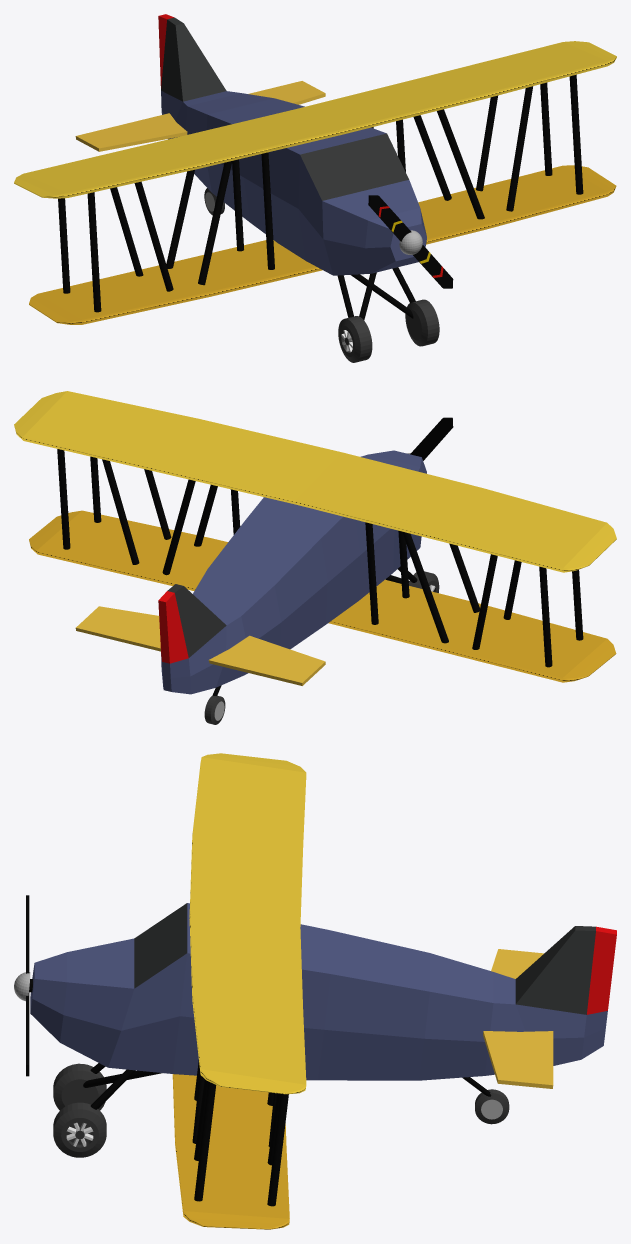
The picture shows the model from 3 angles, top to bottom: view 1: azimuth 30°, elevation 25°; view 2: azimuth 150°, elevation 25°; view 3: azimuth 270°, elevation 25°; orthographic projection. The views are drawn at different scales.
Parts seen in each view (by area): view 1: Cube_0, Cube.001_3, Cube.002_4, Cube.003_19, Cylinder_5, Cylinder.012_17, Cylinder.001_6, Cylinder.018_26, Cylinder.017_25, Cylinder.006_11, Cylinder.011_16, Cylinder.002_7 (+7 smaller); view 2: Cube.001_3, Cube_0, Cube.002_4, Cube.003_19, Cylinder.001_6, Cylinder.007_12, Cylinder_5, Cylinder.010_15, Cylinder.003_8, Cylinder.005_10, Cylinder.008_13, Cylinder.012_17 (+6 smaller); view 3: Cube_0, Cube.001_3, Cube.002_4, Cube.003_19, Cylinder.017_25, Cylinder.018_26, Cylinder_5, Cylinder.001_6, Cylinder.020_28, Cylinder.012_17.
Boxes of the visible parts, left/top/right/bottom form: Cube_0: left=158, top=14, right=426, bottom=275; Cube.001_3: left=14, top=41, right=616, bottom=198; Cube.002_4: left=29, top=165, right=616, bottom=324; Cube.003_19: left=75, top=81, right=325, bottom=151; Cylinder_5: left=87, top=74, right=583, bottom=312; Cylinder.012_17: left=368, top=195, right=453, bottom=288; Cylinder.001_6: left=58, top=82, right=552, bottom=293; Cylinder.018_26: left=338, top=316, right=372, bottom=362; Cylinder.017_25: left=405, top=299, right=439, bottom=346; Cylinder.006_11: left=261, top=119, right=405, bottom=269; Cylinder.011_16: left=198, top=161, right=232, bottom=285; Cylinder.002_7: left=506, top=86, right=532, bottom=211; Cube.001_3: left=14, top=391, right=616, bottom=572; Cube_0: left=158, top=450, right=426, bottom=694; Cube.002_4: left=29, top=510, right=616, bottom=682; Cube.003_19: left=75, top=606, right=325, bottom=685; Cylinder.001_6: left=57, top=449, right=552, bottom=667; Cylinder.007_12: left=230, top=489, right=378, bottom=624; Cylinder_5: left=90, top=456, right=583, bottom=640; Cylinder.010_15: left=402, top=531, right=448, bottom=643; Cylinder.003_8: left=102, top=459, right=139, bottom=564; Cylinder.005_10: left=162, top=479, right=195, bottom=575; Cylinder.008_13: left=472, top=554, right=497, bottom=649; Cylinder.012_17: left=410, top=417, right=453, bottom=460; Cube_0: left=30, top=903, right=616, bottom=1080; Cube.001_3: left=189, top=753, right=306, bottom=1094; Cube.002_4: left=172, top=1074, right=289, bottom=1229; Cube.003_19: left=483, top=949, right=553, bottom=1088; Cylinder.017_25: left=53, top=1102, right=106, bottom=1157; Cylinder.018_26: left=53, top=1063, right=106, bottom=1110; Cylinder_5: left=194, top=1081, right=216, bottom=1201; Cylinder.001_6: left=267, top=1094, right=288, bottom=1206; Cylinder.020_28: left=475, top=1089, right=509, bottom=1124; Cylinder.012_17: left=26, top=895, right=32, bottom=1076.
Bounding box in the file's own units: 38.13 × 11.92 × 29.22.
